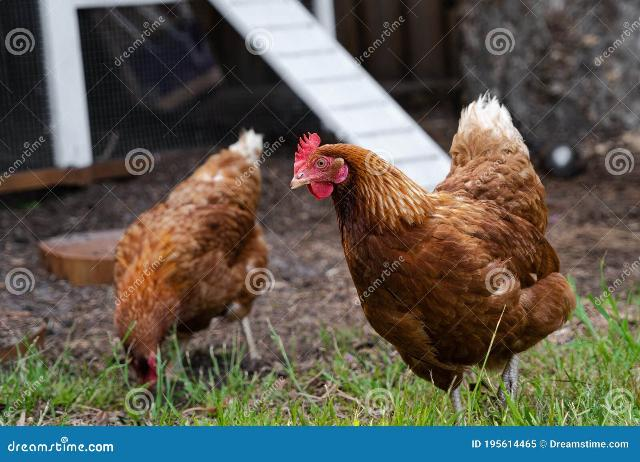Chicken: (289, 92, 577, 419), (113, 129, 270, 390)
